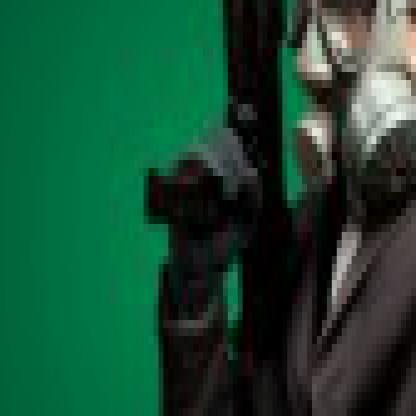gun: (124, 0, 302, 312)
